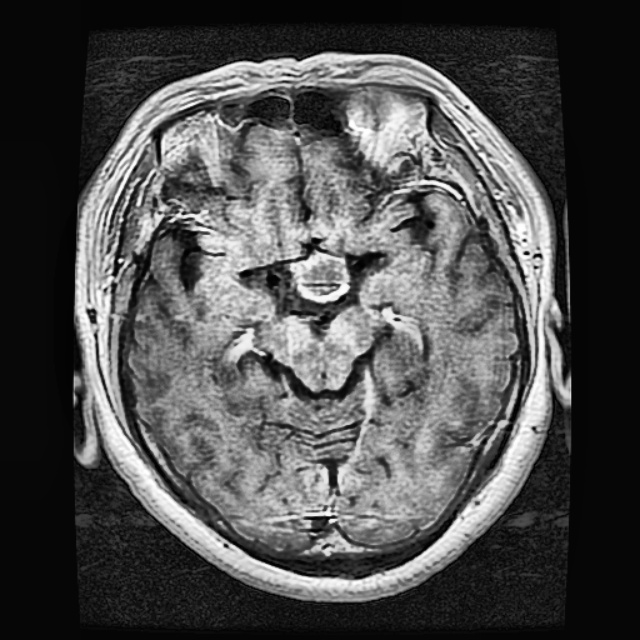Pituitary: (292, 250, 350, 302)
